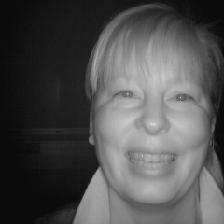happy: (74, 4, 224, 204)
